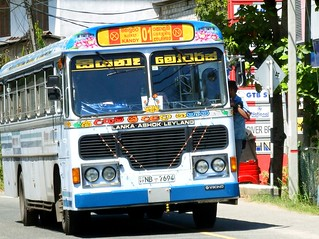bus: (1, 20, 240, 233)
